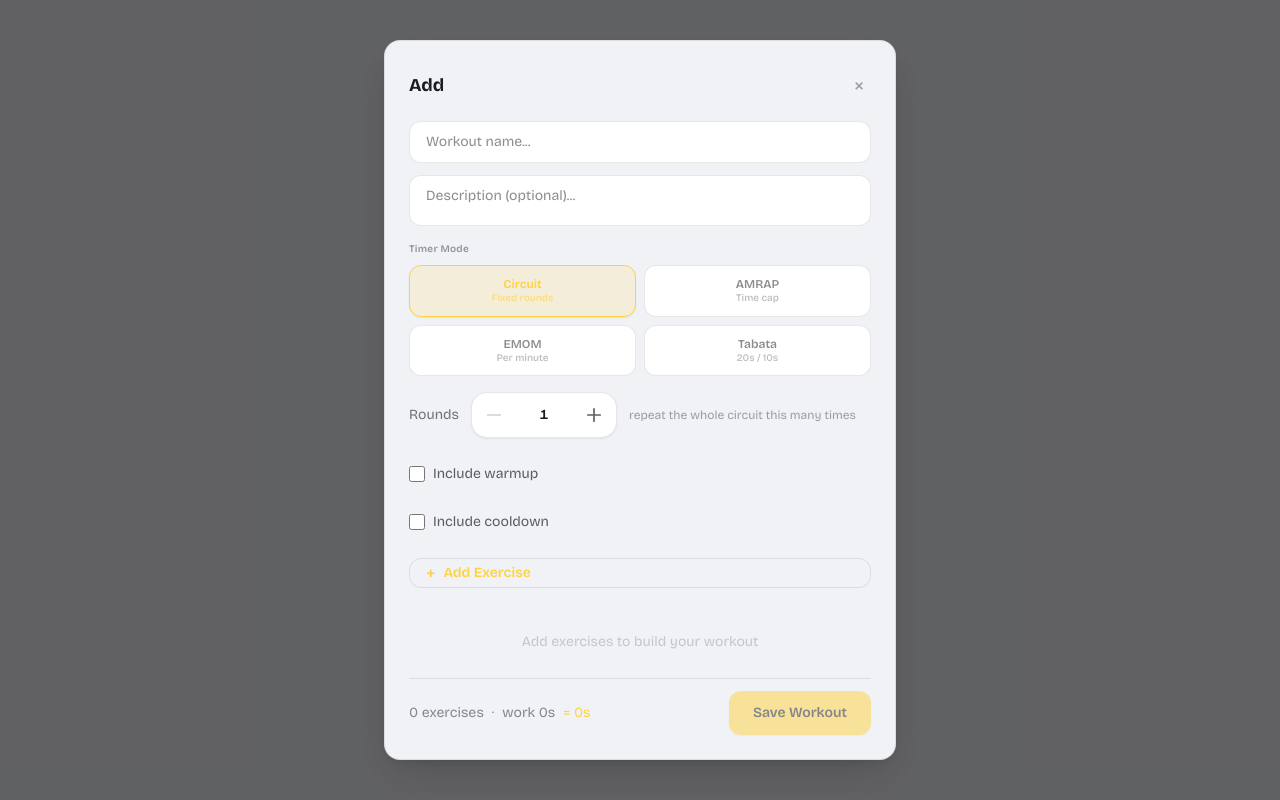
WorkoutEditor › shows exercise picker when Add Exercise is clicked
Click the button "+ Add Exercise". click: (487, 573)
box: [409,558,871,588]
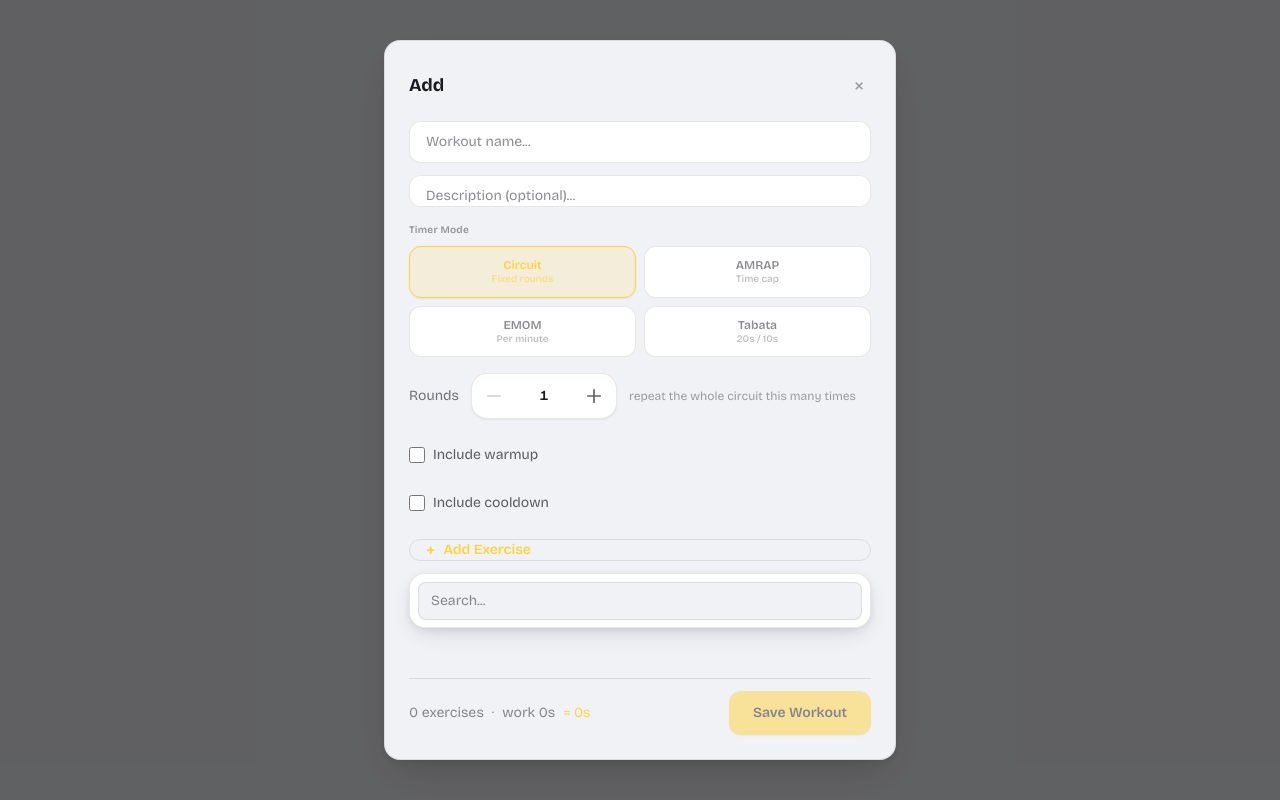
Now the field with placeholder "Search..." is shown, box [418,582,862,620]
